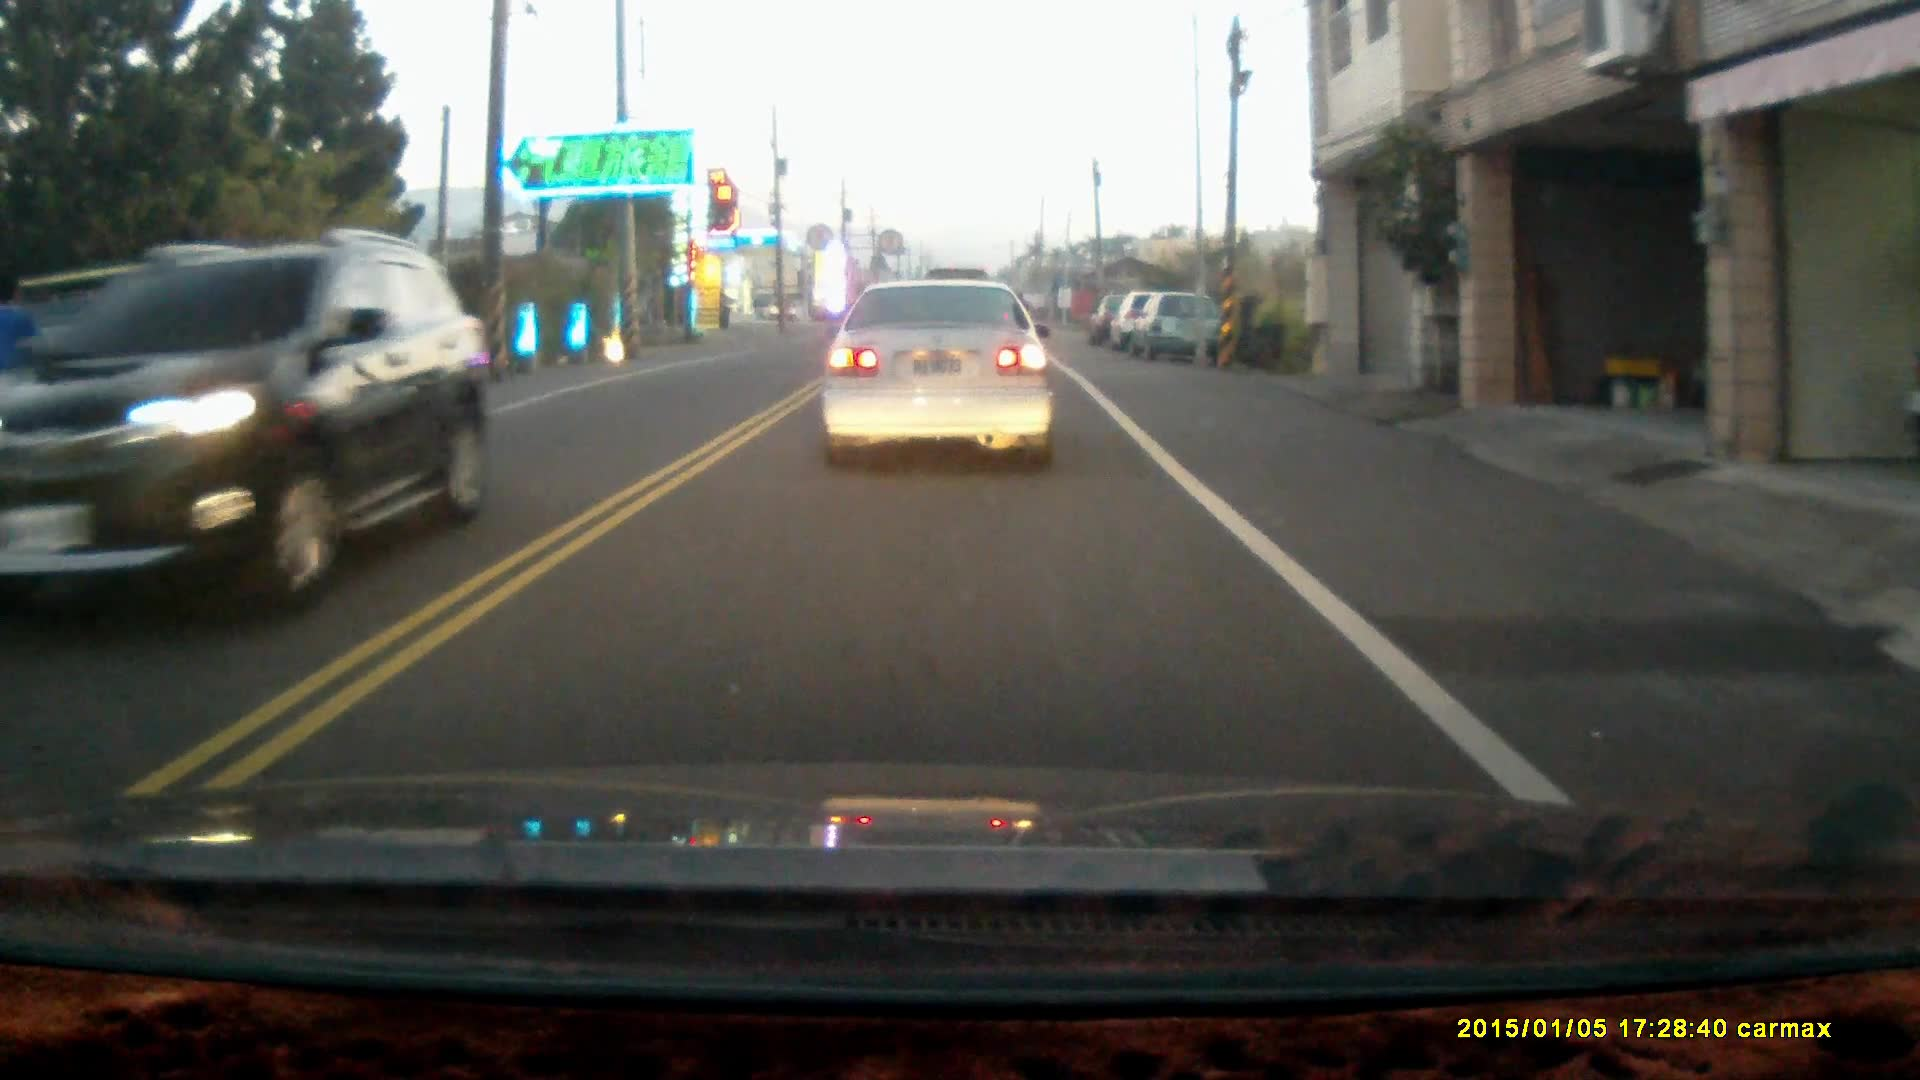vehicle: (1, 229, 491, 608), (819, 280, 1055, 469), (1126, 294, 1222, 365), (1116, 293, 1195, 348)
